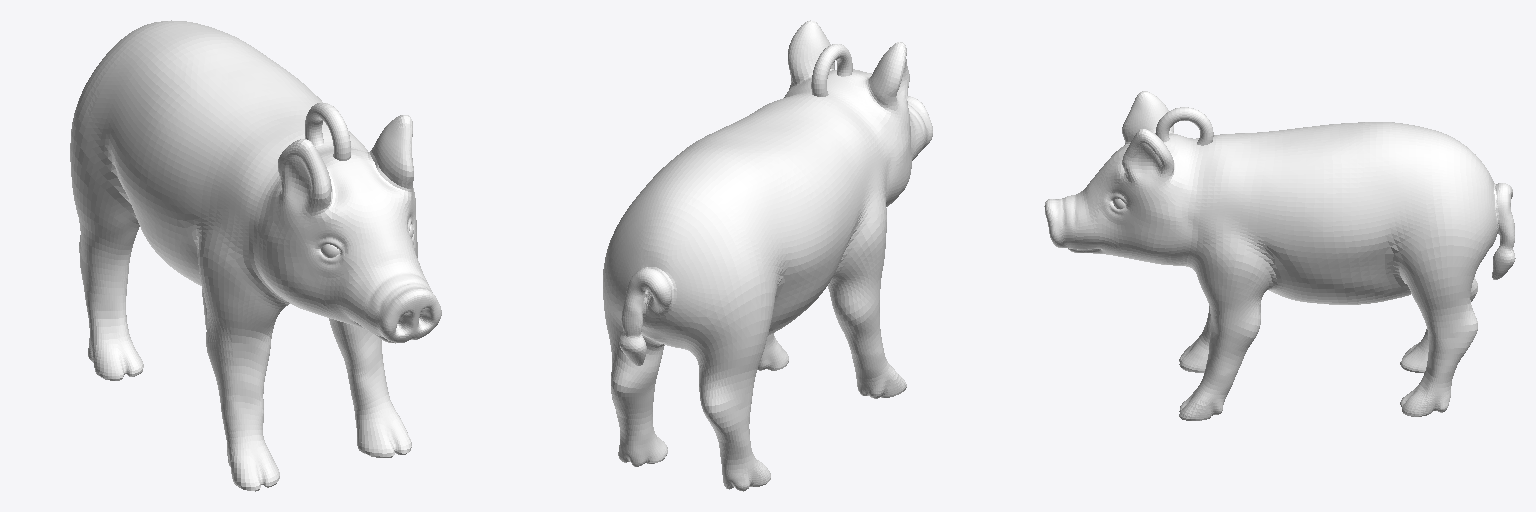
robot.urdf — simple_pig1.obj:
<robot name="simple_pig1.obj">
	<link name="_name">
		<visual>
			<origin xyz="0 0 0" rpy="0 0 0" />
			<geometry>
				<mesh filename="simple_pig1.obj" scale="1.0 1.0 1.0" />
			</geometry>
			<material name="texture">
				<color rgba="1.0 1.0 1.0 1.0" />
			</material>
		</visual>
		<collision>
			<geometry>
				<mesh filename="simple_pig1_vhacd.obj" scale="1.0 1.0 1.0" />
			</geometry>
		</collision>
		<inertial>
			<mass value="1.0" />
			<inertia ixx="1.0" ixy="0.0" ixz="0.0" iyy="1.0" iyz="0.0" izz="1.0" />
		</inertial>
	</link>
</robot>

--- What the picture shows (computed from the rendered views, not written in the file) ---
3 views of the same robot in one strip: view 1: azimuth 30°, elevation 25°; view 2: azimuth 150°, elevation 25°; view 3: azimuth 270°, elevation 25° (orthographic).
Robot: simple_pig1.obj — 1 links, 0 joints (none); root link _name; default pose: all joints at 0.
Links seen in each view (by area): view 1: _name; view 2: _name; view 3: _name.
Boxes of the visible links, left/top/right/bottom form: _name: left=70, top=20, right=441, bottom=491; _name: left=603, top=20, right=932, bottom=491; _name: left=1044, top=91, right=1515, bottom=420.
Size in the robot's own frame: 2.41 by 6.95 by 4.61 metres.
1 mesh visuals loaded from 1 distinct referenced files (1 OBJ).